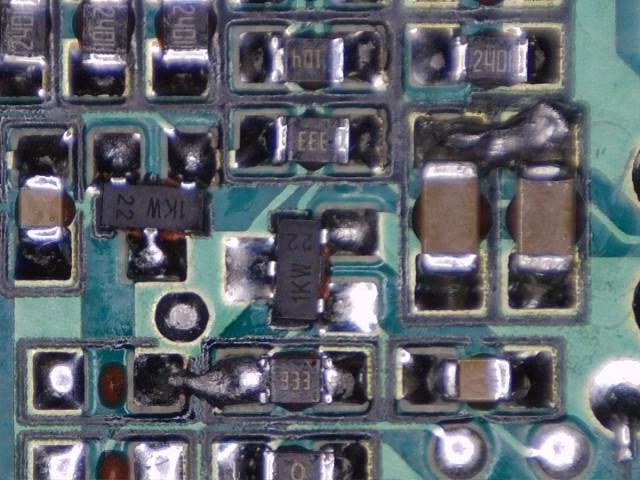pcb_defect: (413, 102, 578, 181), (133, 353, 271, 407)
